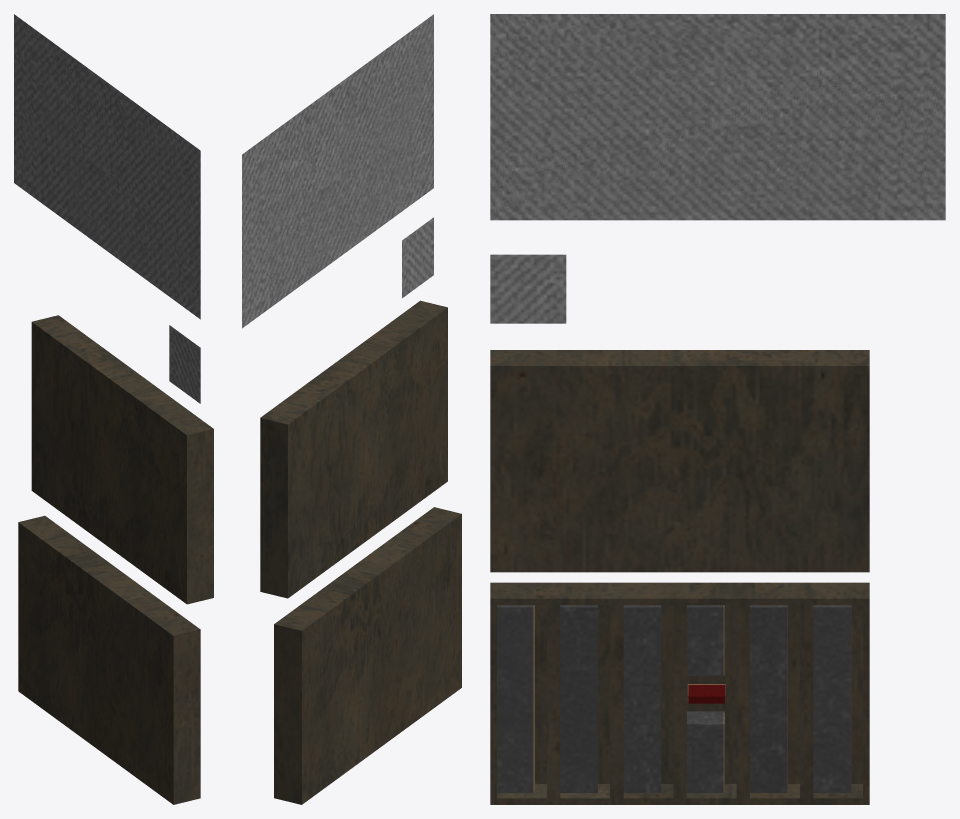
The model's file is OldLibrary.fbx.
3 views of the same model, side by side, from view 1: azimuth 30°, elevation 25°; view 2: azimuth 150°, elevation 25°; view 3: azimuth 270°, elevation 25° (orthographic). The views are drawn at different scales.
Parts seen in each view (by area): view 1: Bookshelf_Generic, Bookshelf_Interaction, WebsLarge, WebsSmall; view 2: Bookshelf_Interaction, Bookshelf_Generic, WebsLarge, WebsSmall; view 3: WebsLarge, Bookshelf_Generic, Bookshelf_Interaction, WebsSmall.
Part boxes in pixels (x1=…): Bookshelf_Generic: x1=31, y1=315, x2=213, y2=604; Bookshelf_Interaction: x1=18, y1=515, x2=200, y2=804; WebsLarge: x1=14, y1=14, x2=200, y2=319; WebsSmall: x1=169, y1=325, x2=200, y2=403; Bookshelf_Interaction: x1=274, y1=507, x2=461, y2=804; Bookshelf_Generic: x1=260, y1=300, x2=447, y2=598; WebsLarge: x1=242, y1=14, x2=433, y2=328; WebsSmall: x1=402, y1=217, x2=433, y2=298; WebsLarge: x1=490, y1=14, x2=945, y2=220; Bookshelf_Generic: x1=490, y1=350, x2=869, y2=572; Bookshelf_Interaction: x1=490, y1=582, x2=869, y2=804; WebsSmall: x1=490, y1=254, x2=566, y2=323.
Bounding box in the file's own units: 37.5 × 575 × 300.
